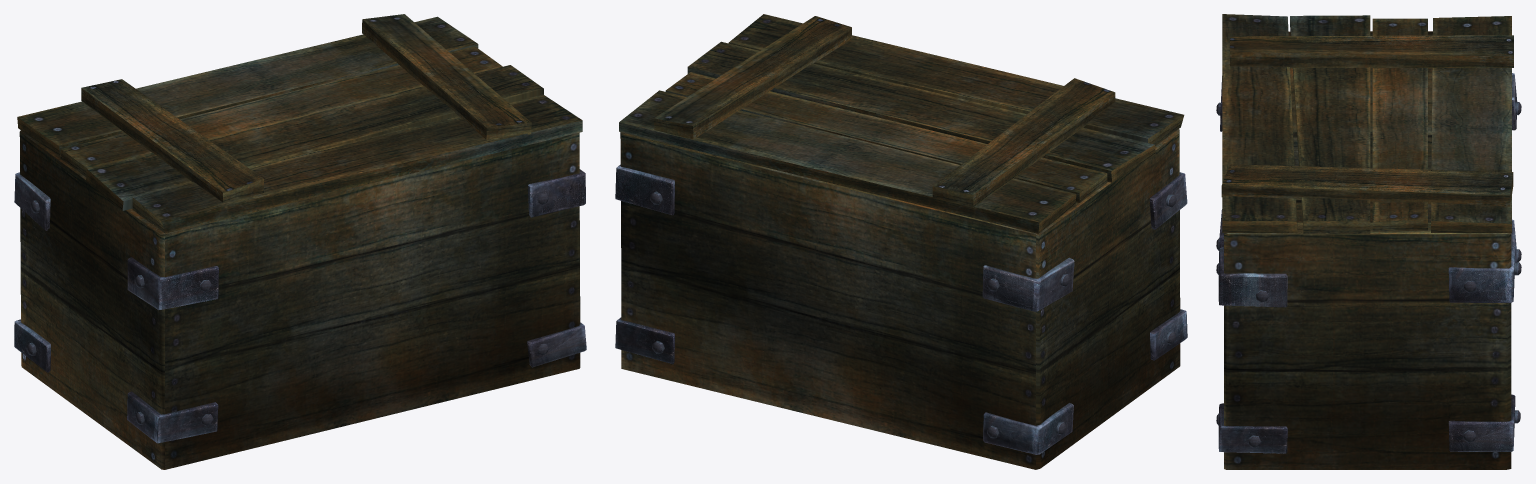
The model's file is Big_box.FBX.
3 views of the same model, side by side, from view 1: azimuth 30°, elevation 25°; view 2: azimuth 150°, elevation 25°; view 3: azimuth 270°, elevation 25° (orthographic).
Visible parts, largest first — view 1: big_box, big_box_cover; view 2: big_box, big_box_cover; view 3: big_box, big_box_cover.
Boxes of the visible parts, x1,y1,x2,y2 form: big_box: [14, 130, 586, 469]; big_box_cover: [17, 14, 582, 233]; big_box: [615, 129, 1187, 469]; big_box_cover: [619, 14, 1184, 233]; big_box: [1216, 31, 1521, 469]; big_box_cover: [1221, 14, 1513, 233].
Bounding box in the file's own units: 78.05 × 45.19 × 47.29.
